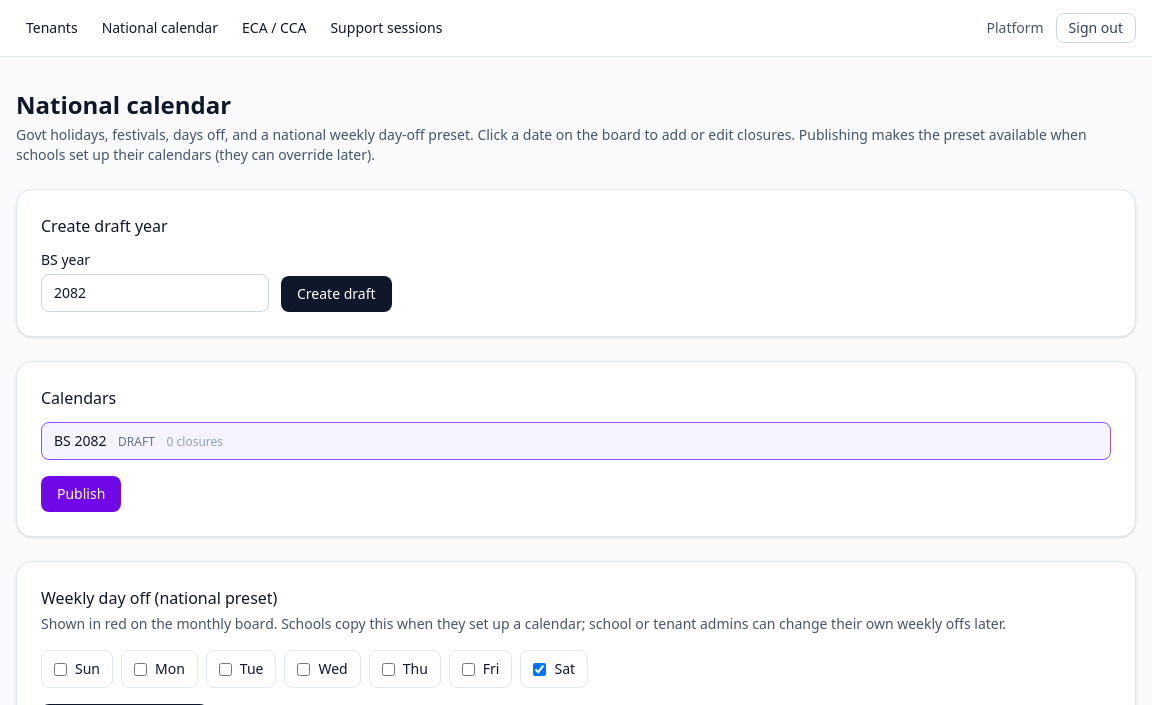
Test: NationalCalendarPage › publishes a draft calendar
Click the button with test id "national-calendar-publish".
click(81, 494)  # box [41,476,121,512]
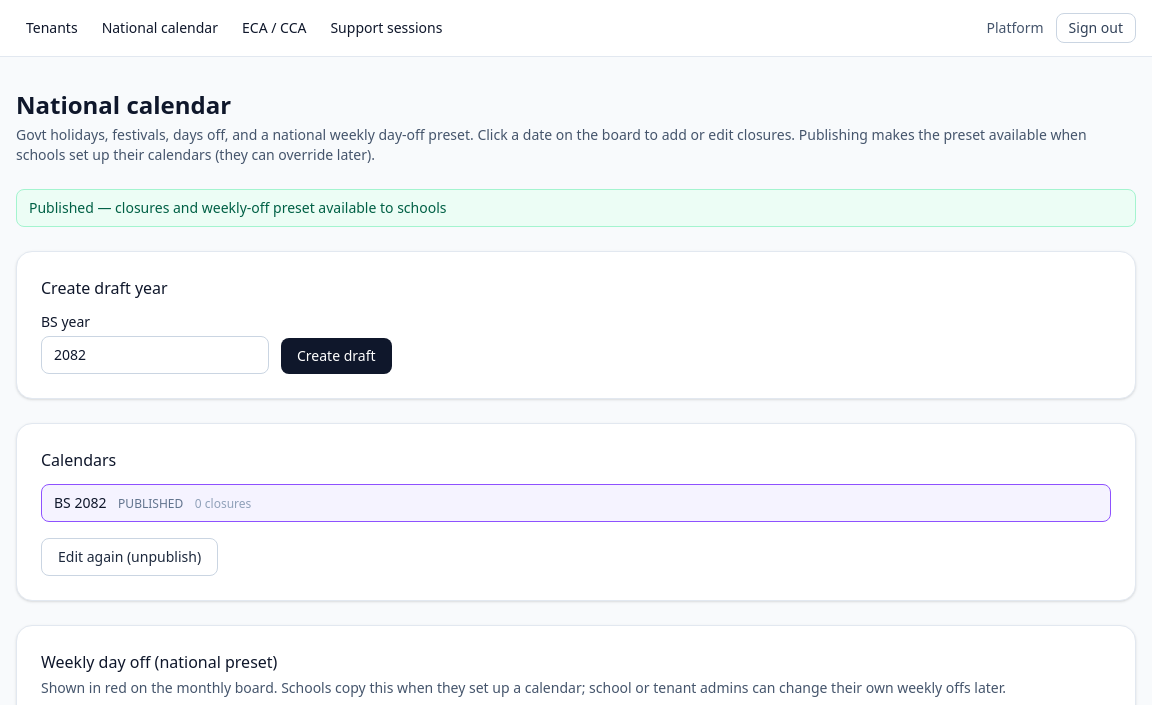
Expected: the button with test id "national-calendar-unpublish" is shown, [41,538,218,576]
